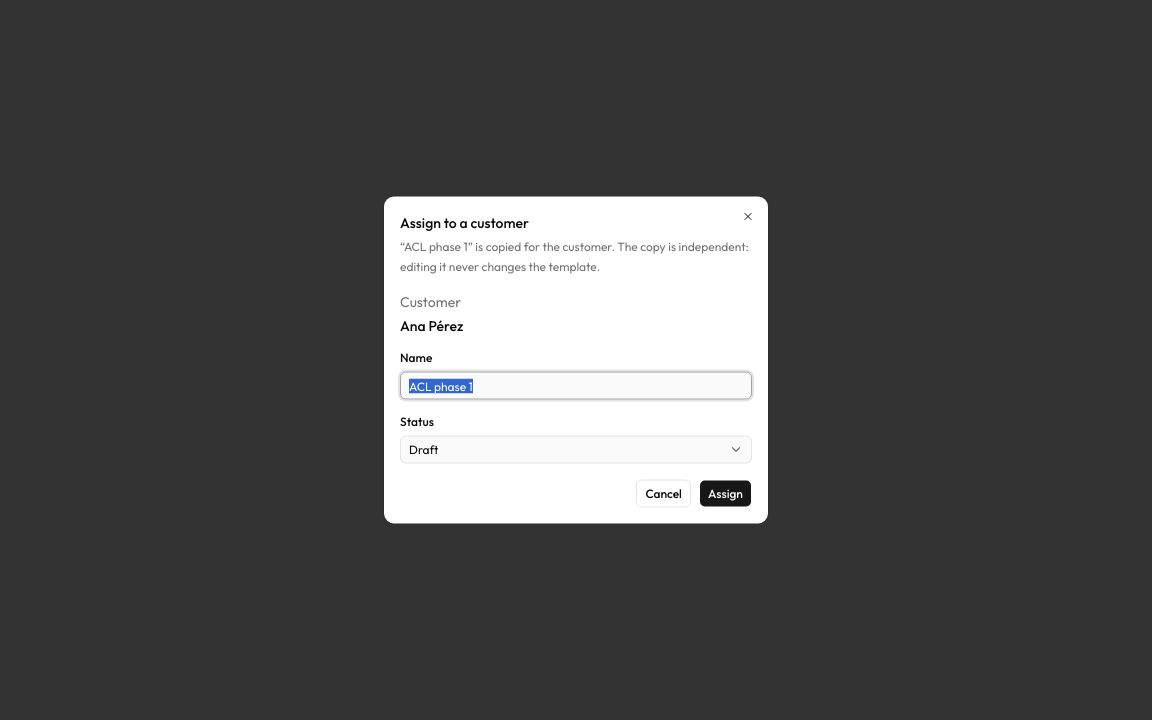
Scenario: AssignTemplateDialog with a fixed customer › shows needsItems from the server
Click the button "Assign". click: (725, 494)
box: [699,480,752,508]
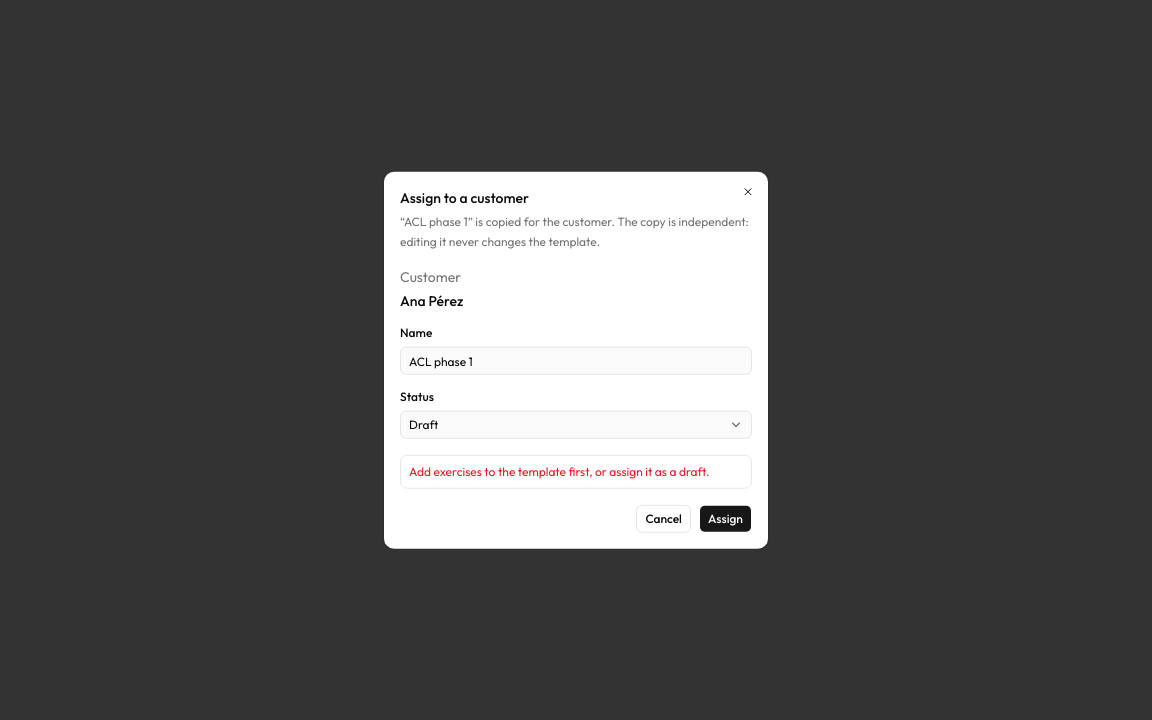
Result: the message reads "Add exercises to the template first, or assign it as a draft." at [409,464,710,479]
